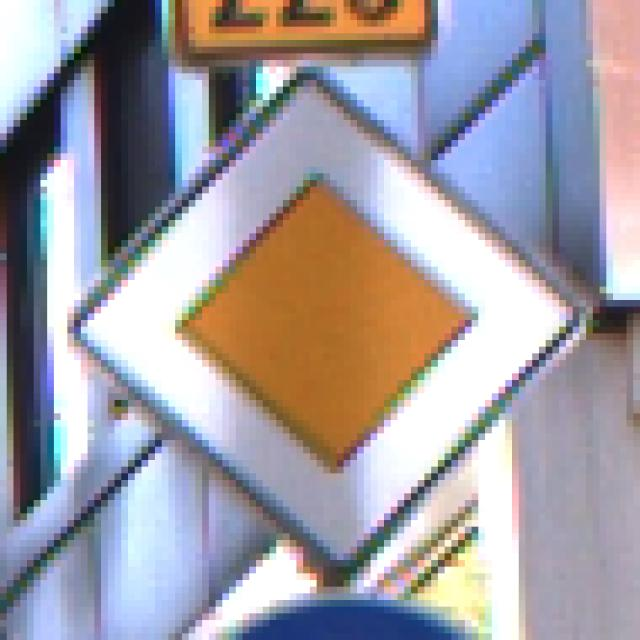Main Road: (55, 54, 580, 581)
